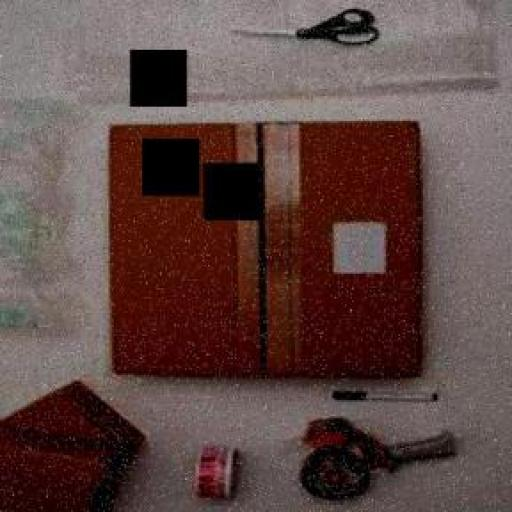box: (105, 119, 428, 379)
